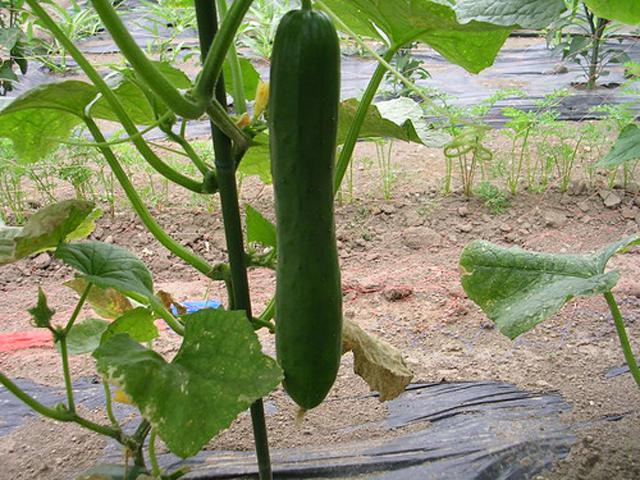cucumber: (268, 9, 342, 420)
